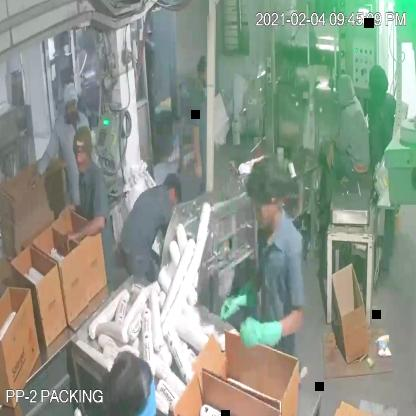glove: (216, 274, 267, 328), (239, 301, 280, 353), (62, 217, 111, 252), (23, 155, 48, 195)
no_glove: (188, 120, 208, 185), (318, 135, 341, 175)
